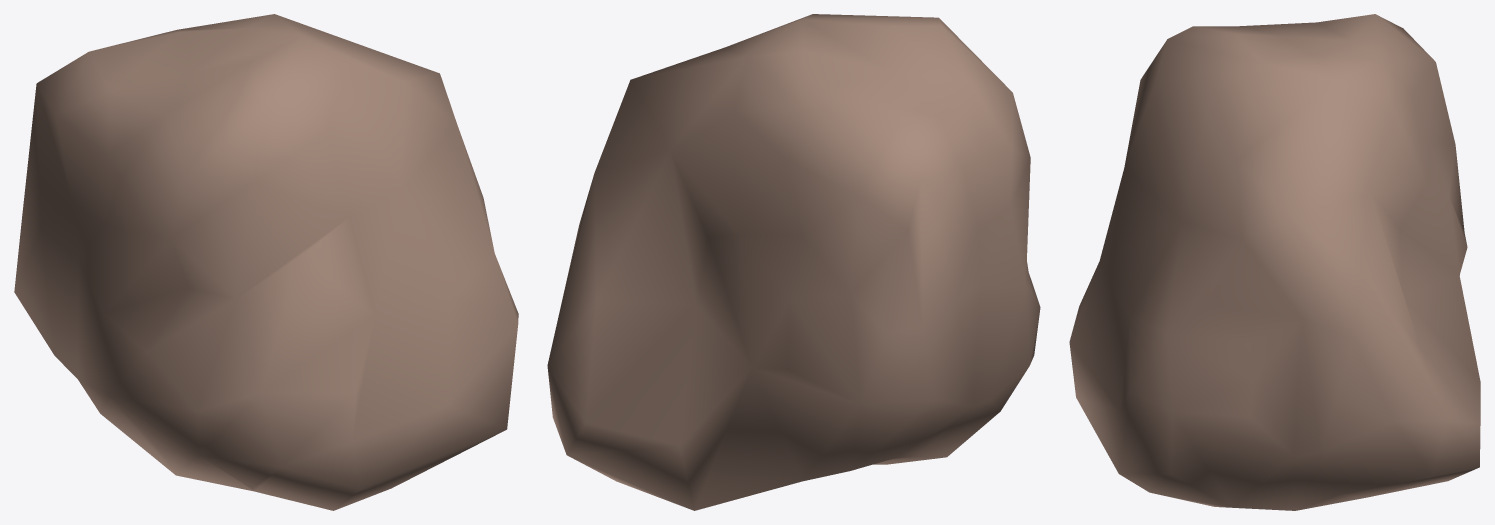
The model's file is Stone03.fbx.
The picture shows the model from 3 angles, left to right: view 1: azimuth 30°, elevation 25°; view 2: azimuth 150°, elevation 25°; view 3: azimuth 270°, elevation 25°; orthographic projection. The views are drawn at different scales.
Parts seen in each view (by area): view 1: rock.008; view 2: rock.008; view 3: rock.008.
Boxes of the visible parts, box(x1,y1,x2,y2) form: rock.008: box(14, 14, 518, 510); rock.008: box(547, 14, 1040, 510); rock.008: box(1069, 14, 1480, 510).
Size of the model in its own units: 1.16 by 1.23 by 1.11.
